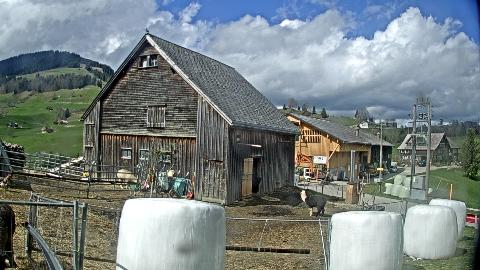car: (388, 165, 398, 173), (418, 161, 426, 167)
sheep: (0, 200, 17, 270), (300, 190, 328, 218), (118, 168, 140, 190), (252, 177, 262, 193)
